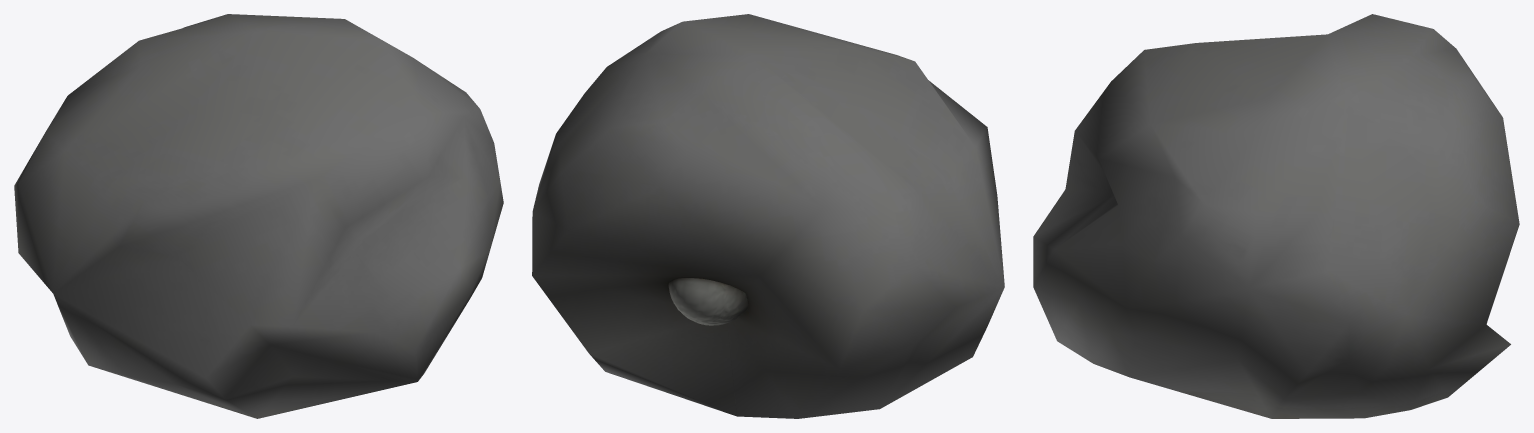
The model's file is selected.glb.
The picture shows the model from 3 angles, left to right: view 1: azimuth 30°, elevation 25°; view 2: azimuth 150°, elevation 25°; view 3: azimuth 270°, elevation 25°; orthographic projection. The views are drawn at different scales.
Visible parts, largest first — view 1: tripo_node_03c5ee4c-41fb-4eac-8c6b-516050a20bc5; view 2: tripo_node_03c5ee4c-41fb-4eac-8c6b-516050a20bc5; view 3: tripo_node_03c5ee4c-41fb-4eac-8c6b-516050a20bc5.
Part boxes in pixels (x1,y1,x2,y2): tripo_node_03c5ee4c-41fb-4eac-8c6b-516050a20bc5: (14, 14, 503, 418); tripo_node_03c5ee4c-41fb-4eac-8c6b-516050a20bc5: (532, 14, 1004, 418); tripo_node_03c5ee4c-41fb-4eac-8c6b-516050a20bc5: (1033, 14, 1519, 418).
Size of the model in its own units: 0.998 by 0.7012 by 0.916.
Materials: 1 (1 with a texture image).
